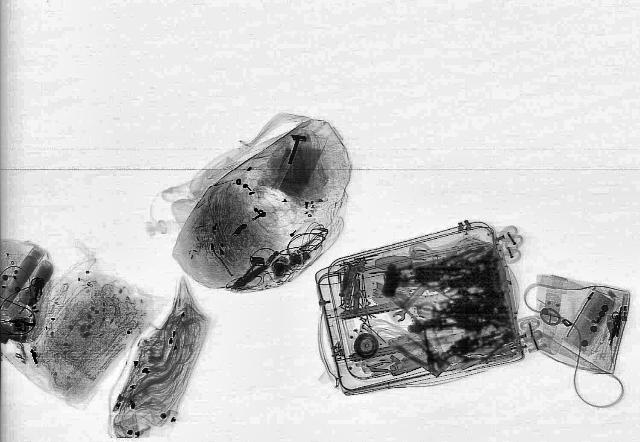Wrench: (386, 279, 432, 323)
